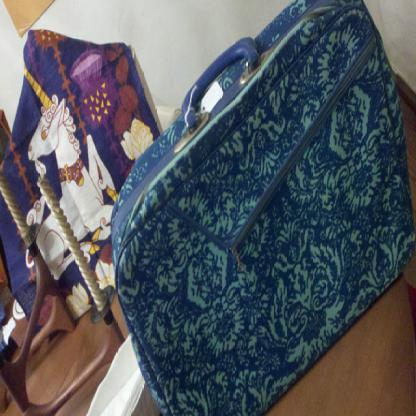suitcase: (110, 1, 416, 411)
